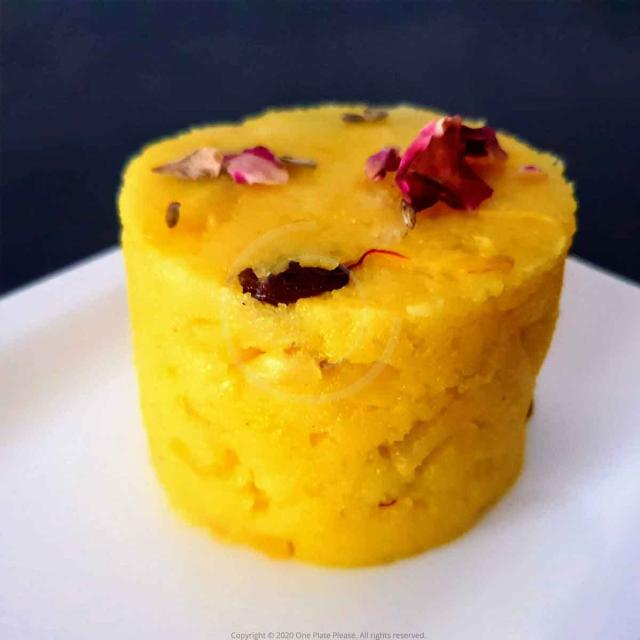kesari bath: (100, 93, 582, 592)
